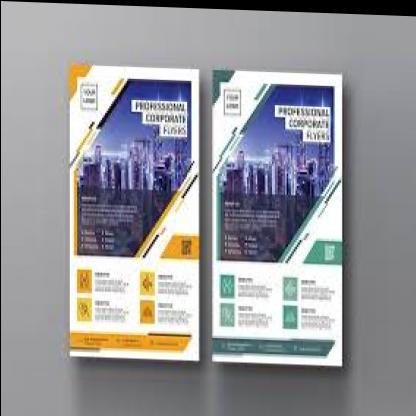Paper: (53, 13, 384, 416)
